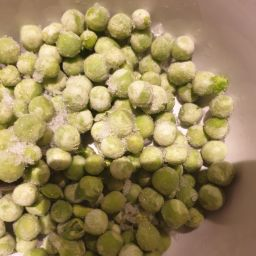Peas: (3, 4, 233, 234), (3, 143, 212, 256), (21, 71, 153, 172)
